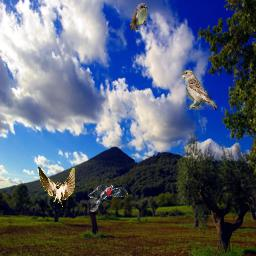Cuckoo: (130, 3, 148, 30)
Sparrow: (181, 70, 217, 110)
Swallow: (38, 167, 75, 207)
Woodpecker: (88, 184, 128, 212)
